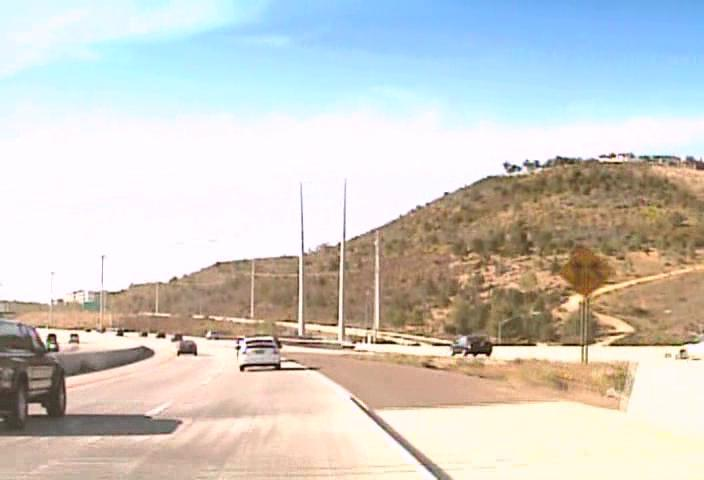addedLane: (558, 245, 615, 296)
